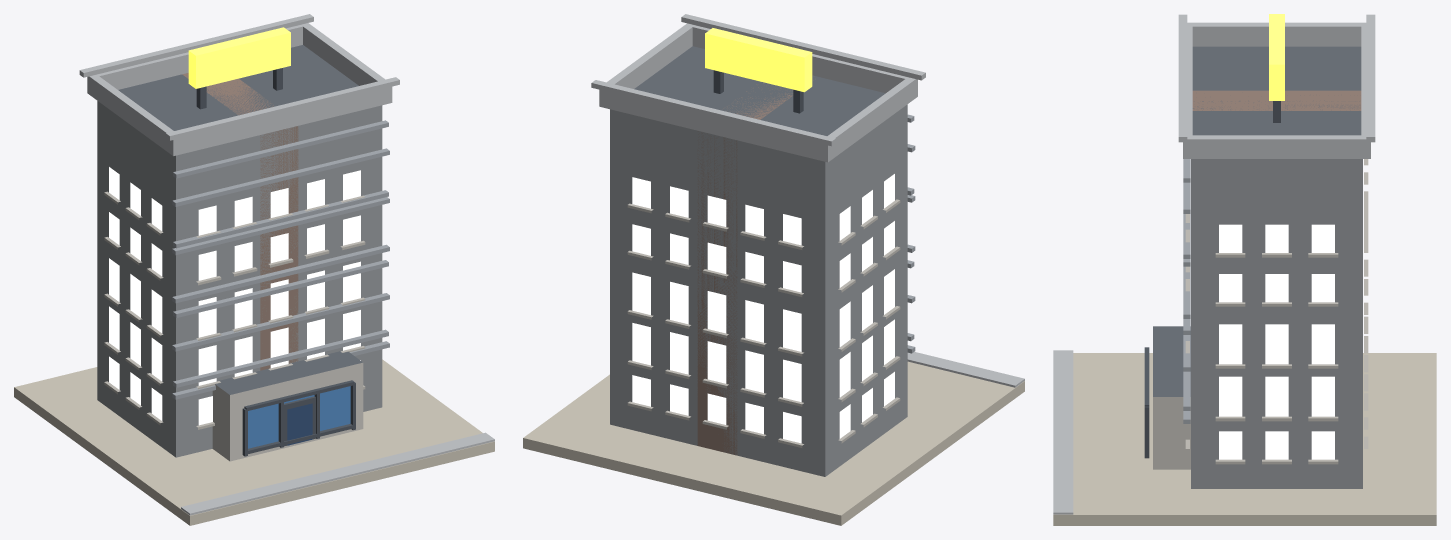
The picture shows the model from 3 angles, left to right: view 1: azimuth 30°, elevation 25°; view 2: azimuth 150°, elevation 25°; view 3: azimuth 270°, elevation 25°; orthographic projection. The views are drawn at different scales.
Parts seen in each view (by area): view 1: b18_v2_lod1; view 2: b18_v2_lod1; view 3: b18_v2_lod1.
Part boxes in pixels (x1=…): b18_v2_lod1: x1=14, y1=14, x2=494, y2=525; b18_v2_lod1: x1=523, y1=14, x2=1024, y2=525; b18_v2_lod1: x1=1053, y1=14, x2=1436, y2=525.
Bounding box in the file's own units: 0.96 × 1.12 × 0.96.
